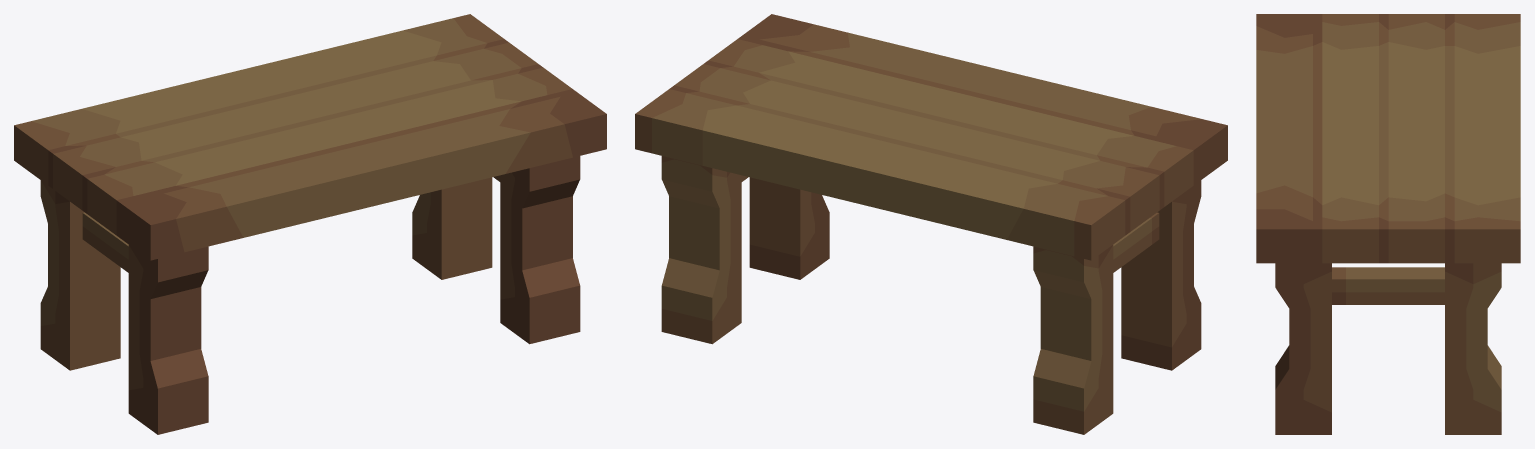
The model's file is workshopShelf.fbx.
The picture shows the model from 3 angles, left to right: view 1: azimuth 30°, elevation 25°; view 2: azimuth 150°, elevation 25°; view 3: azimuth 270°, elevation 25°; orthographic projection. The views are drawn at different scales.
Visible parts, largest first — view 1: shelf, legs, legs_1; view 2: shelf, legs, legs_1; view 3: shelf, legs_1.
Part boxes in pixels (left/top/right/bottom): shelf: left=14, top=14, right=606, bottom=260; legs: left=40, top=180, right=208, bottom=434; legs_1: left=412, top=156, right=580, bottom=344; shelf: left=635, top=14, right=1227, bottom=260; legs: left=1033, top=180, right=1201, bottom=434; legs_1: left=661, top=156, right=829, bottom=344; shelf: left=1256, top=14, right=1520, bottom=263; legs_1: left=1275, top=263, right=1501, bottom=434.
Size of the model in its own units: 338 by 156 by 175.
1 material, 1 textured.
